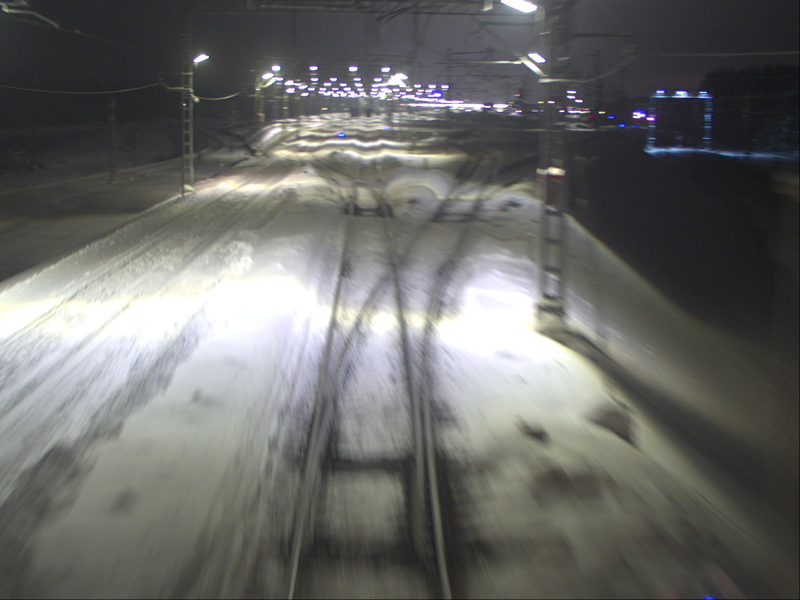right: (290, 258, 451, 567)
